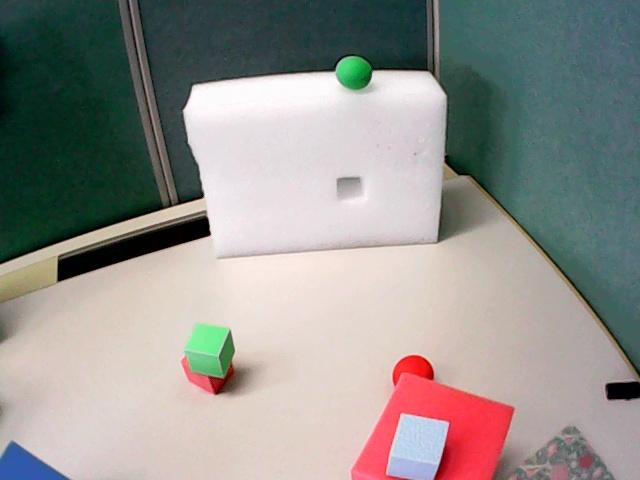blue_block: (386, 414, 448, 479), (0, 442, 67, 479)
red_block: (351, 373, 513, 479), (181, 356, 233, 393)
